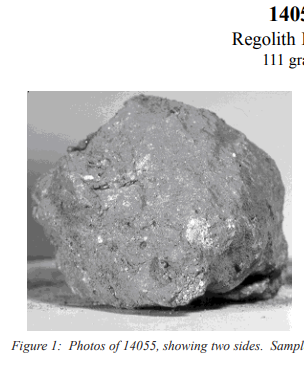Breccia: (38, 104, 278, 306)
